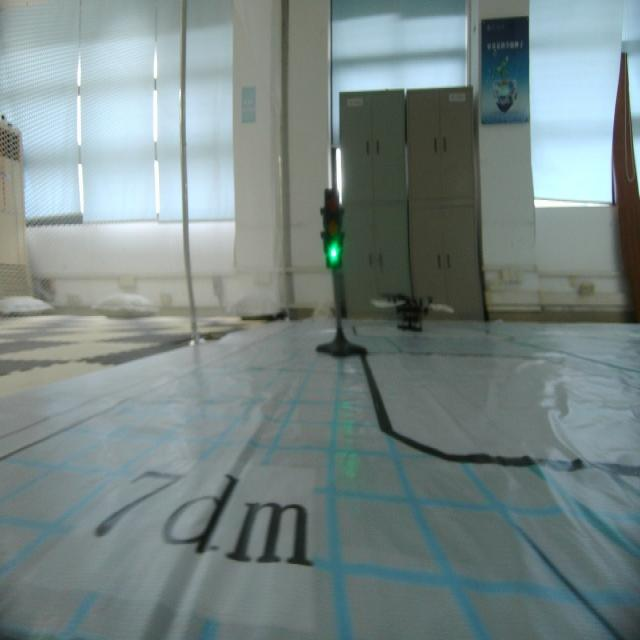green: (316, 187, 348, 276)
